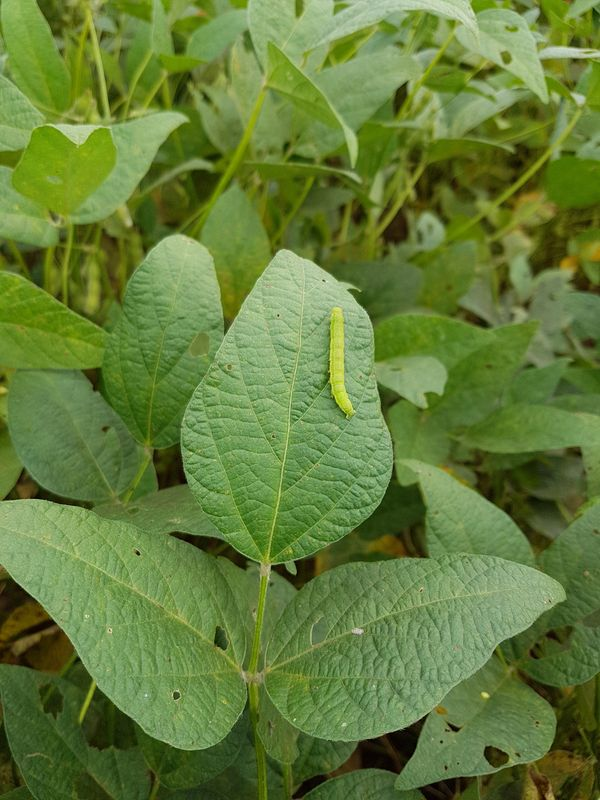Anticarsia_gemmatalis: (300, 302, 384, 425)
